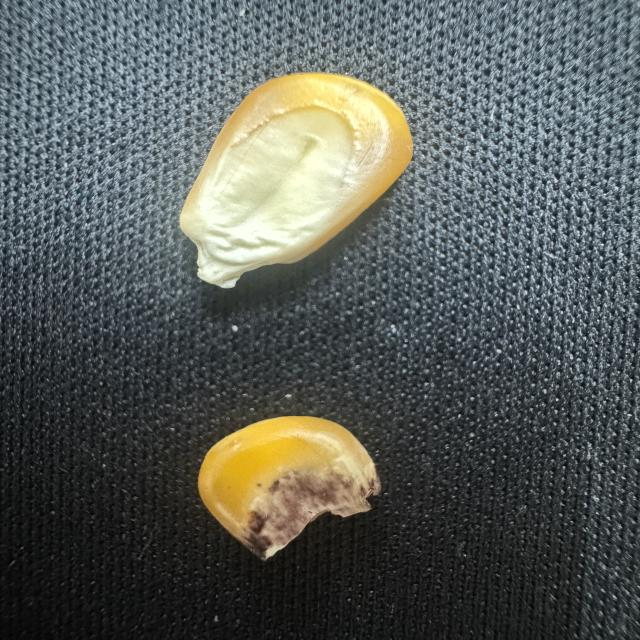Bad-Seed: (193, 410, 388, 565)
Good-Seed: (174, 66, 420, 293)
